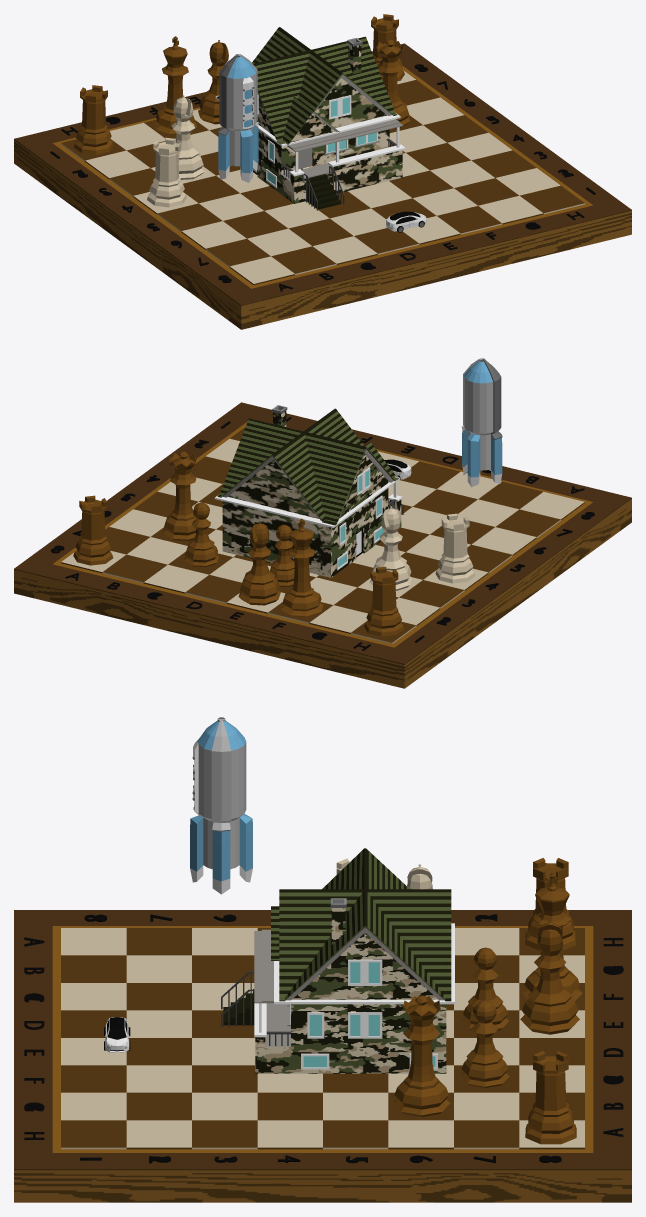
The picture shows the model from 3 angles, top to bottom: view 1: azimuth 30°, elevation 25°; view 2: azimuth 150°, elevation 25°; view 3: azimuth 270°, elevation 25°; orthographic projection. The views are drawn at different scales.
Visible parts, largest first — view 1: Cube.002, Cube.001, OBJRANDOM_ROCKETSHIP, VEHICLES_TESLA; view 2: Cube.002, Cube.001, OBJRANDOM_ROCKETSHIP; view 3: Cube.002, Cube.001, OBJRANDOM_ROCKETSHIP, VEHICLES_TESLA.
Boxes of the visible parts, x1,y1,x2,y2 form: Cube.002: (14, 14, 631, 329); Cube.001: (215, 27, 405, 210); OBJRANDOM_ROCKETSHIP: (218, 54, 258, 182); VEHICLES_TESLA: (386, 211, 426, 232); Cube.002: (14, 402, 631, 688); Cube.001: (214, 405, 403, 577); OBJRANDOM_ROCKETSHIP: (461, 358, 502, 487); Cube.002: (14, 858, 631, 1202); Cube.001: (221, 848, 454, 1073); OBJRANDOM_ROCKETSHIP: (190, 717, 252, 894); VEHICLES_TESLA: (104, 1017, 130, 1052).
Bounding box in the file's own units: 3981 × 2059 × 4012.
31 materials, 5 textured.
